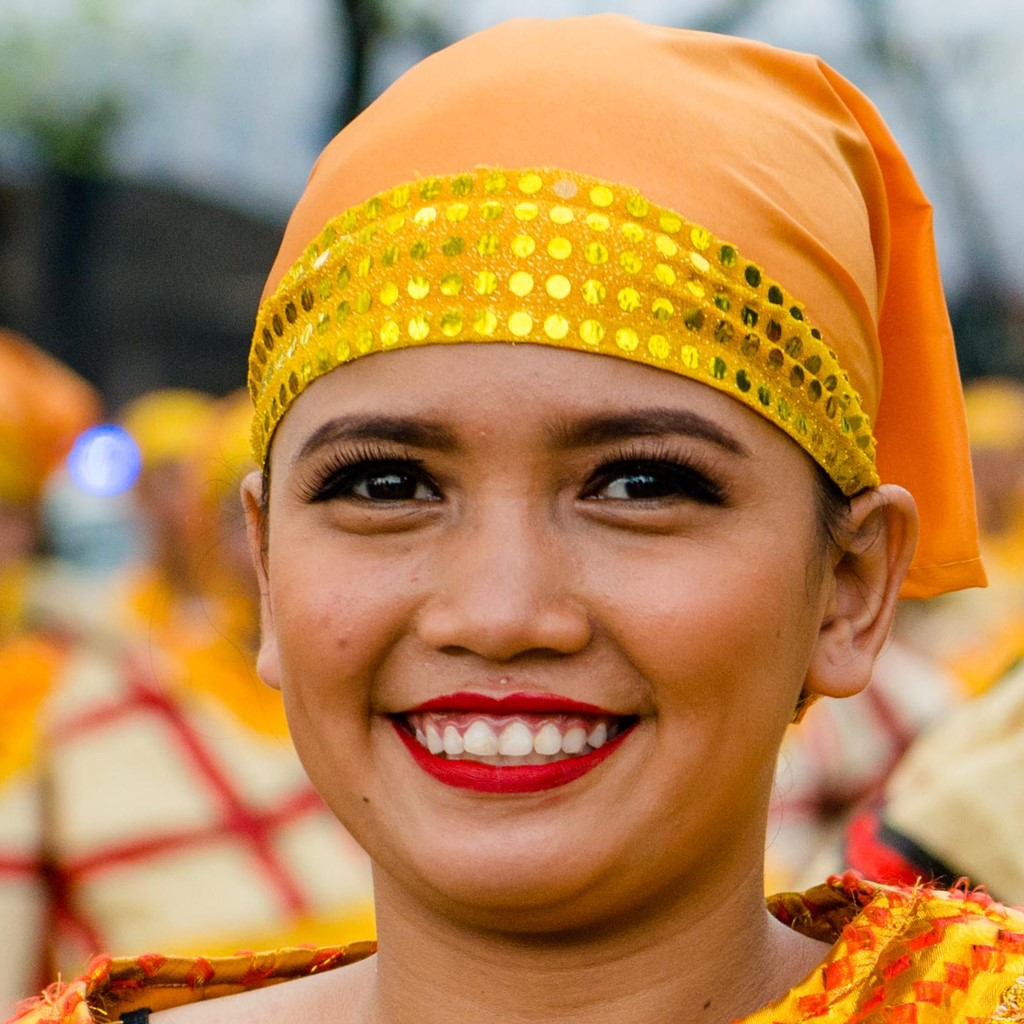sin_mascara: (233, 213, 867, 921)
